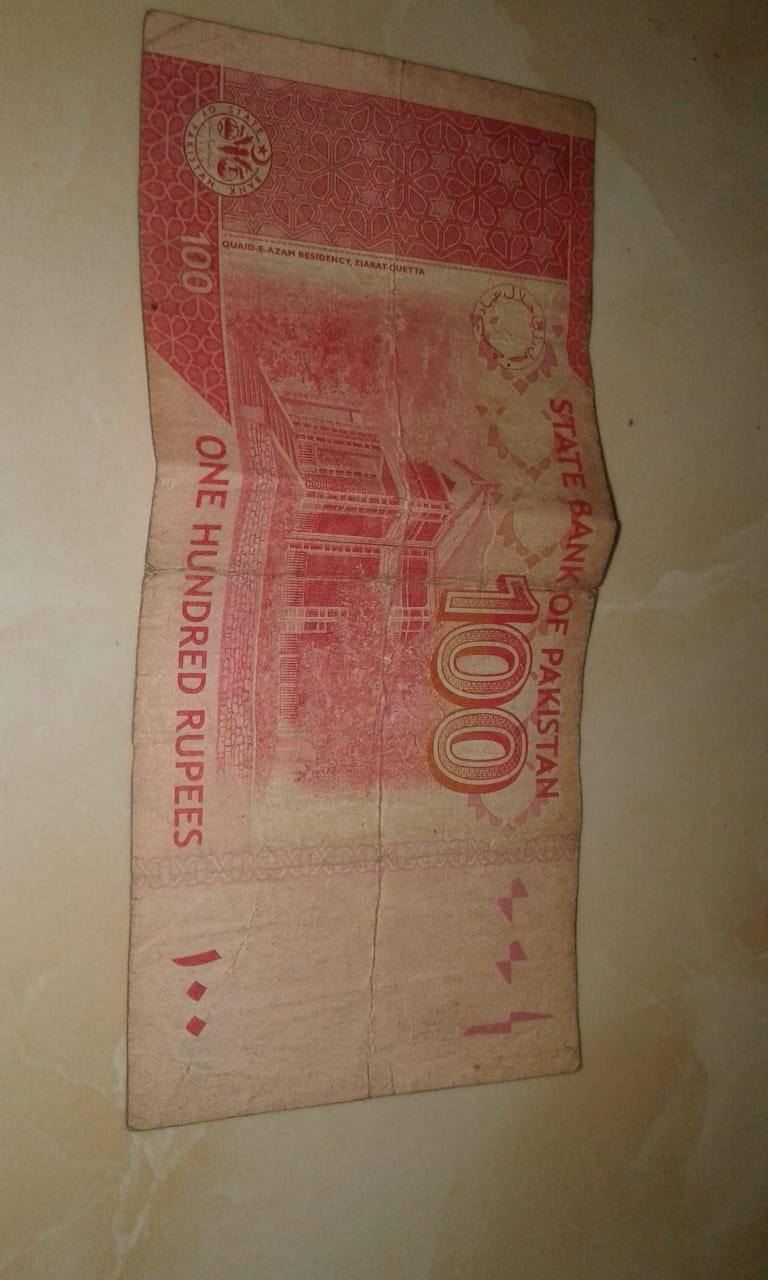100 rupee: (125, 5, 607, 1130)
